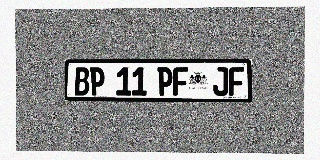1: (116, 67, 131, 96), (132, 67, 147, 96)
B: (75, 67, 89, 95)
F: (173, 67, 188, 96), (229, 67, 244, 96)
J: (213, 67, 228, 96)
P: (157, 67, 172, 96), (90, 67, 104, 95)
